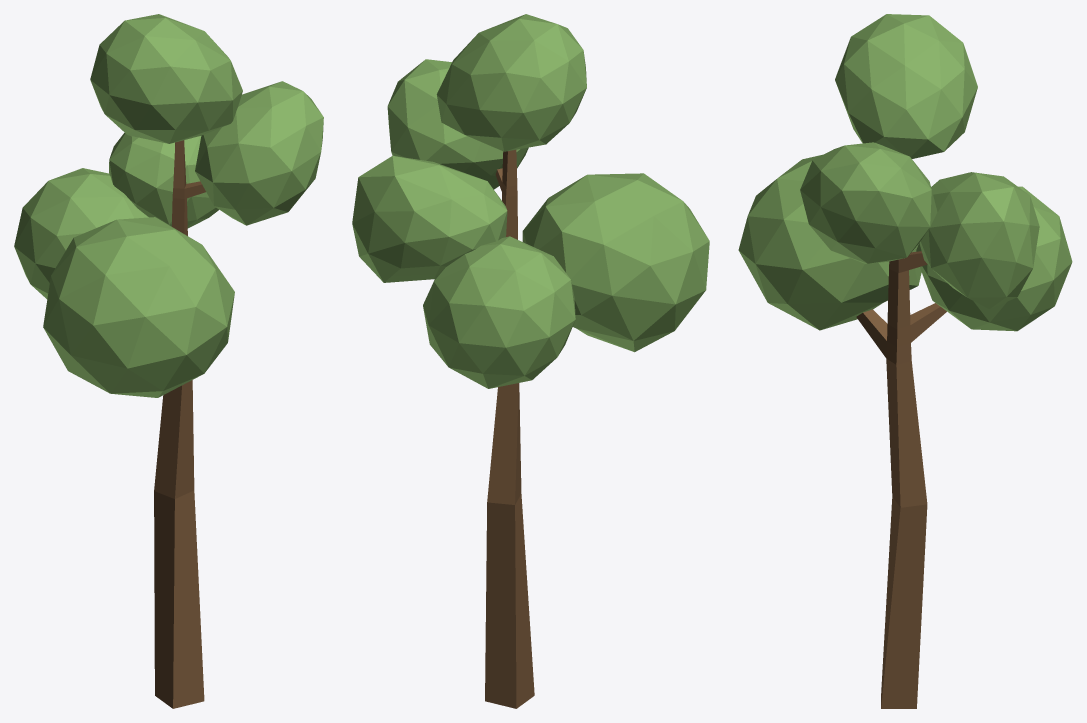
File: f_long_oak_tree2.fbx
The picture shows the model from 3 angles, left to right: view 1: azimuth 30°, elevation 25°; view 2: azimuth 150°, elevation 25°; view 3: azimuth 270°, elevation 25°; orthographic projection.
Visible parts, largest first — view 1: OakTree2; view 2: OakTree2; view 3: OakTree2.
Part boxes in pixels (x1=…): OakTree2: x1=14, y1=14, x2=323, y2=708; OakTree2: x1=352, y1=14, x2=709, y2=708; OakTree2: x1=738, y1=14, x2=1072, y2=708.
Size of the model in its own units: 427 by 1016 by 458.
